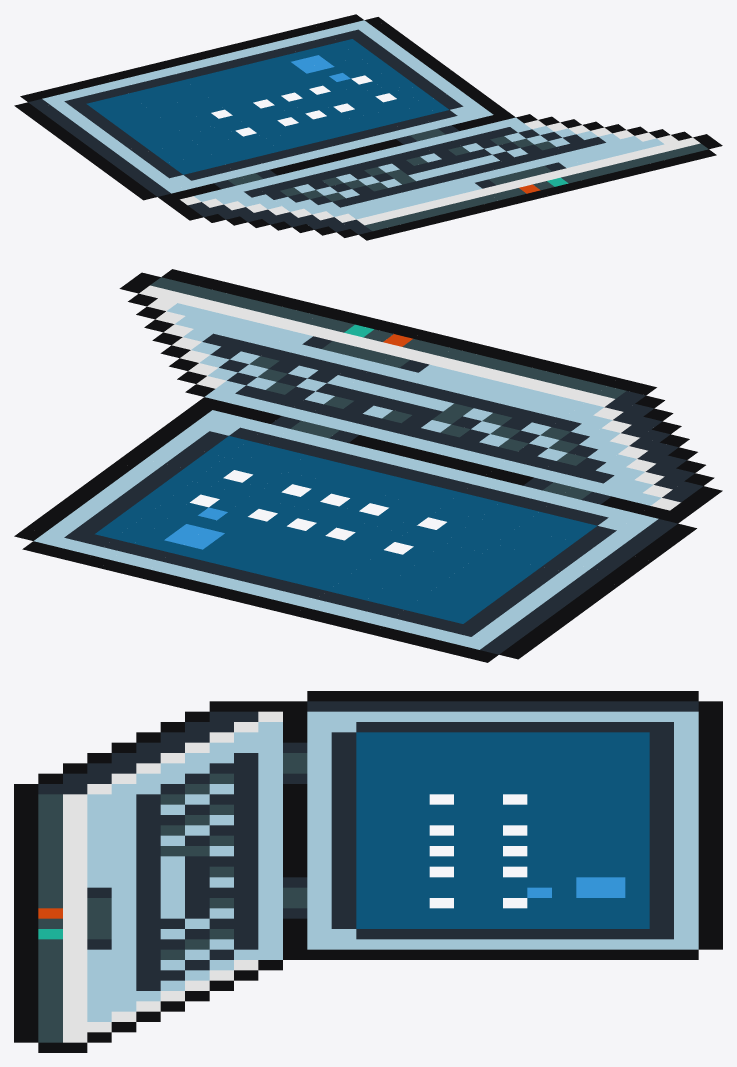
3 views of the same model, one above another, from view 1: azimuth 30°, elevation 25°; view 2: azimuth 150°, elevation 25°; view 3: azimuth 270°, elevation 25° (orthographic). The views are drawn at different scales.
Parts seen in each view (by area): view 1: Curve.086; view 2: Curve.086; view 3: Curve.086.
Part boxes in pixels (box(x1,y1,x2,y2)): Curve.086: box(14, 14, 722, 240); Curve.086: box(14, 269, 722, 662); Curve.086: box(14, 691, 722, 1052).
Bounding box in the file's own units: 0.0302 × 0 × 0.025.
